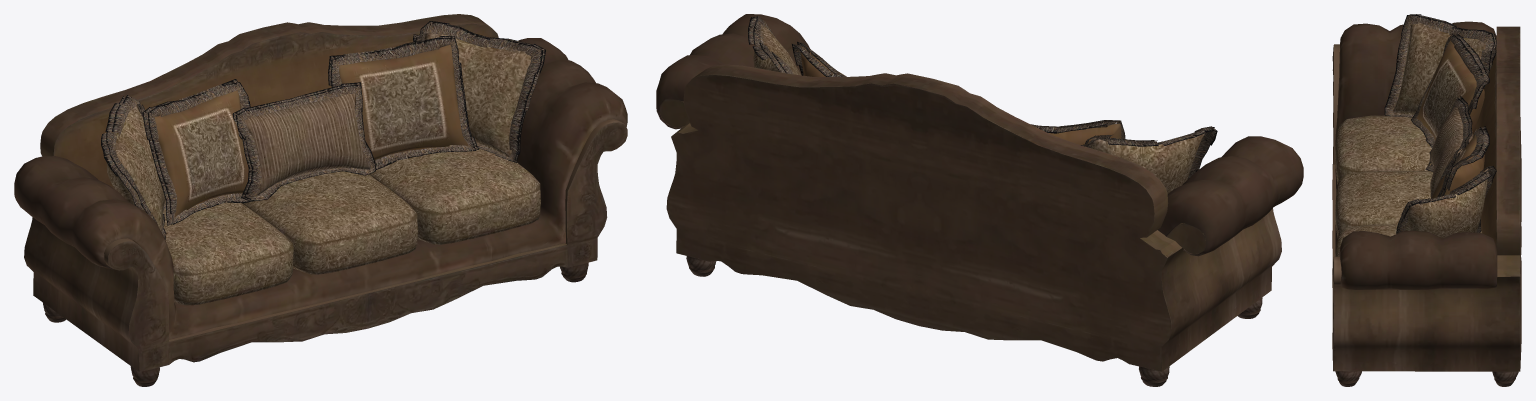
The model's file is prop-sofa-03.glb.
3 renders of one model, left to right at view 1: azimuth 30°, elevation 25°; view 2: azimuth 150°, elevation 25°; view 3: azimuth 270°, elevation 25°, orthographic. The views are drawn at different scales.
Parts seen in each view (by area): view 1: sofa_03; view 2: sofa_03; view 3: sofa_03.
Part boxes in pixels (left/top/right/bottom): sofa_03: left=14, top=14, right=627, bottom=386; sofa_03: left=656, top=14, right=1303, bottom=386; sofa_03: left=1332, top=14, right=1521, bottom=386.
Bounding box in the file's own units: 2.73 × 1.12 × 0.925.
Materials: 2 (2 with a texture image).
